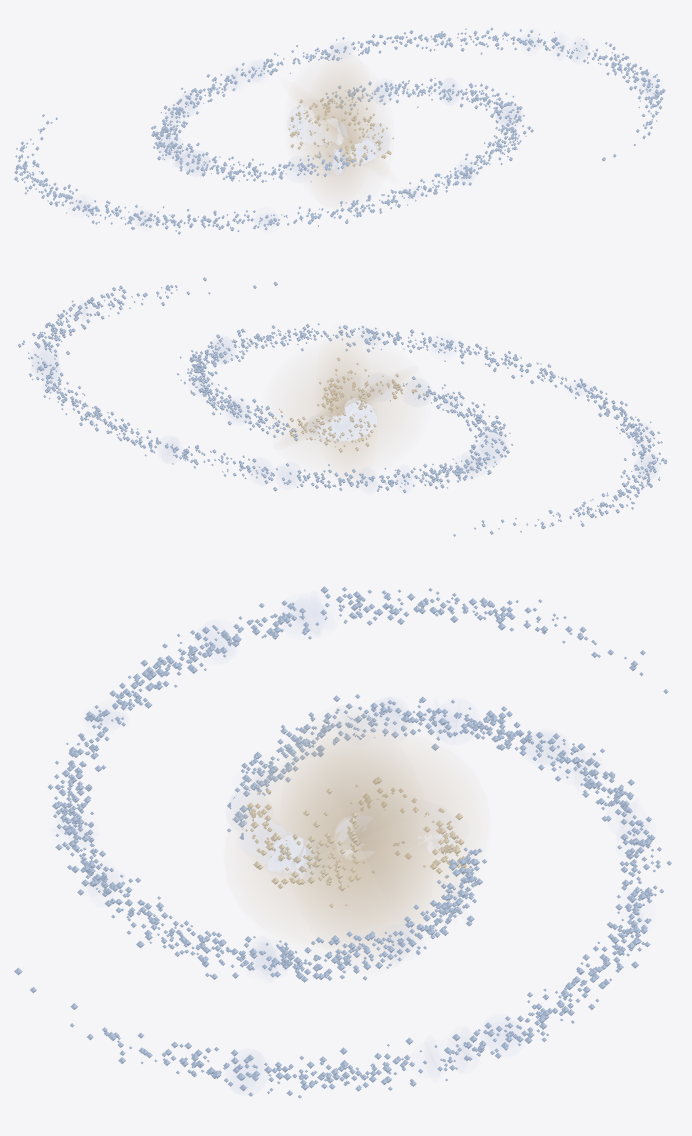
3 renders of one model, top to bottom at view 1: azimuth 30°, elevation 25°; view 2: azimuth 150°, elevation 25°; view 3: azimuth 270°, elevation 25°, orthographic. The views are drawn at different scales.
Size of the model in its own units: 7.07 by 1.78 by 4.01.
